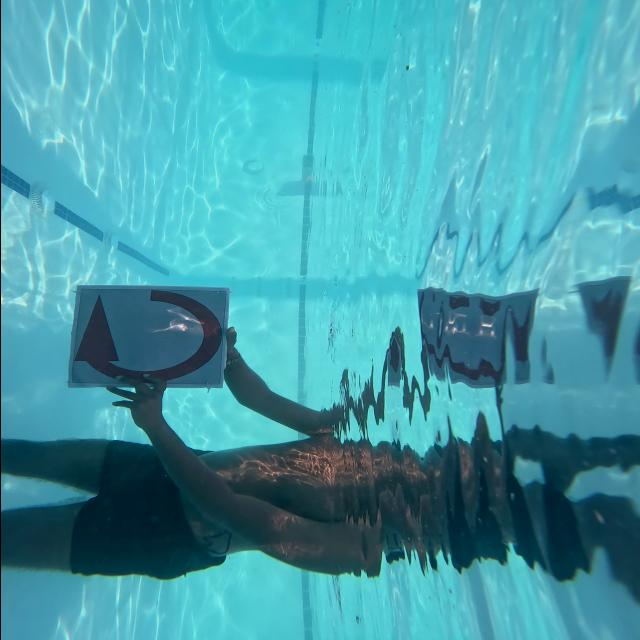red_side: (66, 285, 228, 387)
